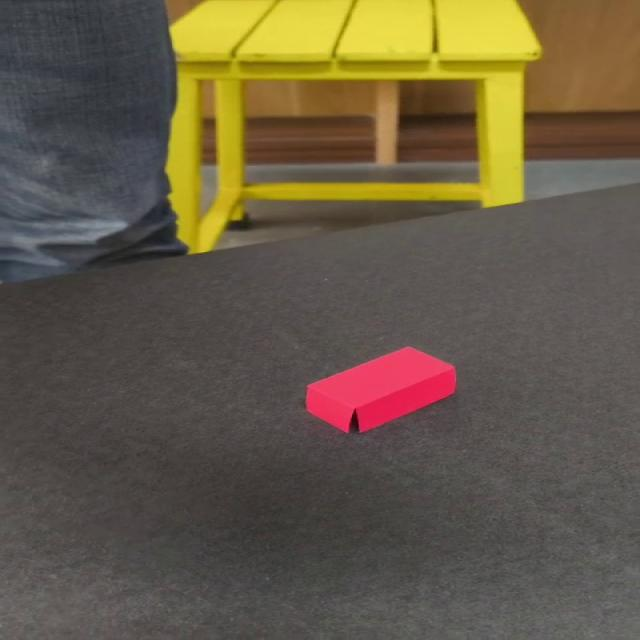red block: (304, 346, 457, 434)
